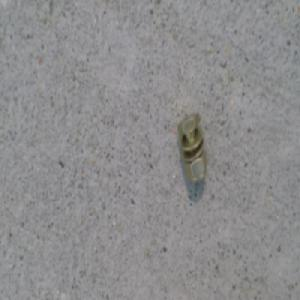BoltNutSet: (176, 110, 205, 182)
